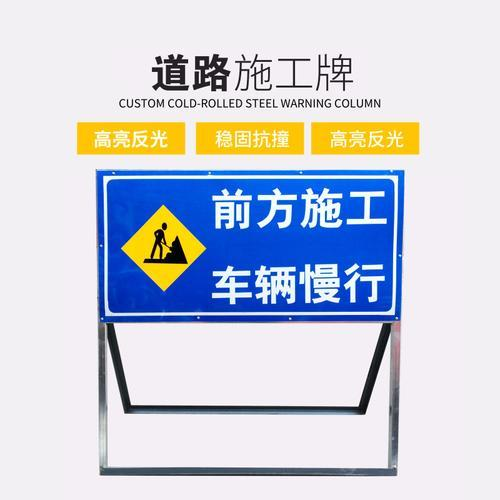sign: (98, 173, 398, 321)
